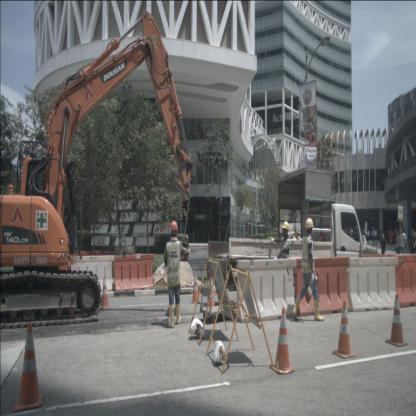barrier: (236, 258, 298, 320), (294, 258, 352, 317), (346, 256, 399, 313), (69, 255, 115, 292), (114, 254, 156, 292), (395, 255, 415, 309)
cone: (11, 321, 43, 413), (270, 306, 294, 375), (333, 298, 356, 360), (386, 294, 408, 347), (98, 274, 112, 311), (190, 273, 201, 304), (205, 277, 216, 308)
